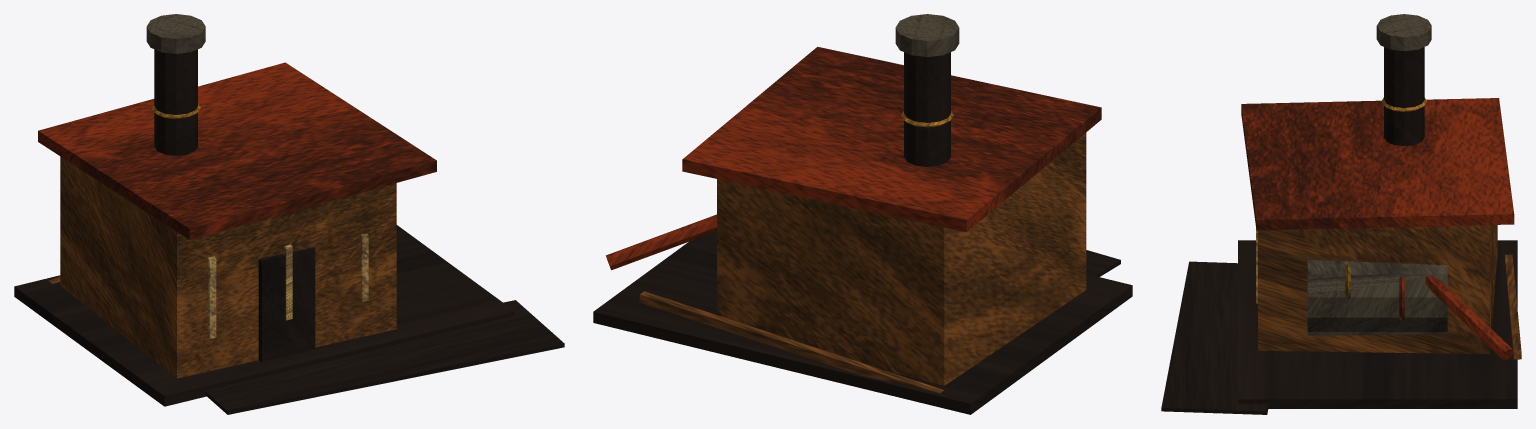
The model's file is boiler-house-site.glb.
3 renders of one model, left to right at view 1: azimuth 30°, elevation 25°; view 2: azimuth 150°, elevation 25°; view 3: azimuth 270°, elevation 25°, orthographic. The views are drawn at different scales.
Parts seen in each view (by area): view 1: boiler-house-site; view 2: boiler-house-site; view 3: boiler-house-site.
Part boxes in pixels (left/top/right/bottom): boiler-house-site: left=14, top=14, right=564, bottom=414; boiler-house-site: left=593, top=14, right=1132, bottom=414; boiler-house-site: left=1161, top=14, right=1521, bottom=414.
Bounding box in the file's own units: 8.18 × 6.18 × 7.46.
Materials: 1 (1 with a texture image).
